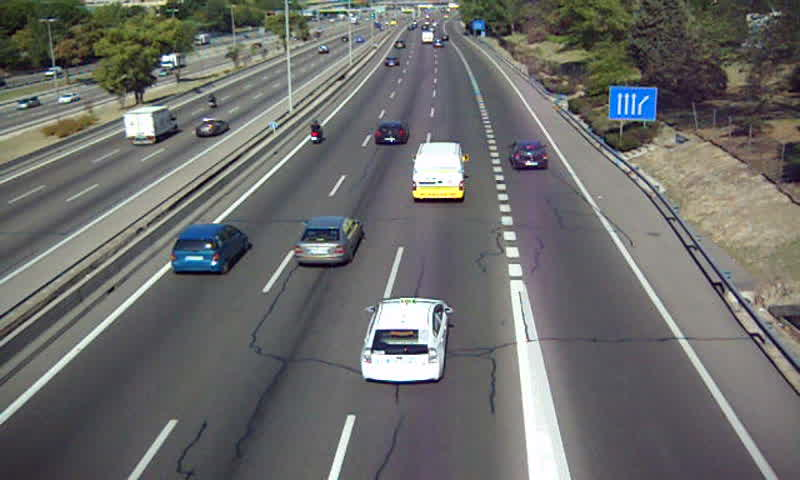car: (361, 298, 450, 383), (171, 225, 249, 274), (293, 216, 363, 266), (508, 140, 550, 170), (374, 121, 410, 146), (382, 57, 401, 70)
motorcycle: (308, 118, 322, 148)
van: (412, 142, 465, 200)
